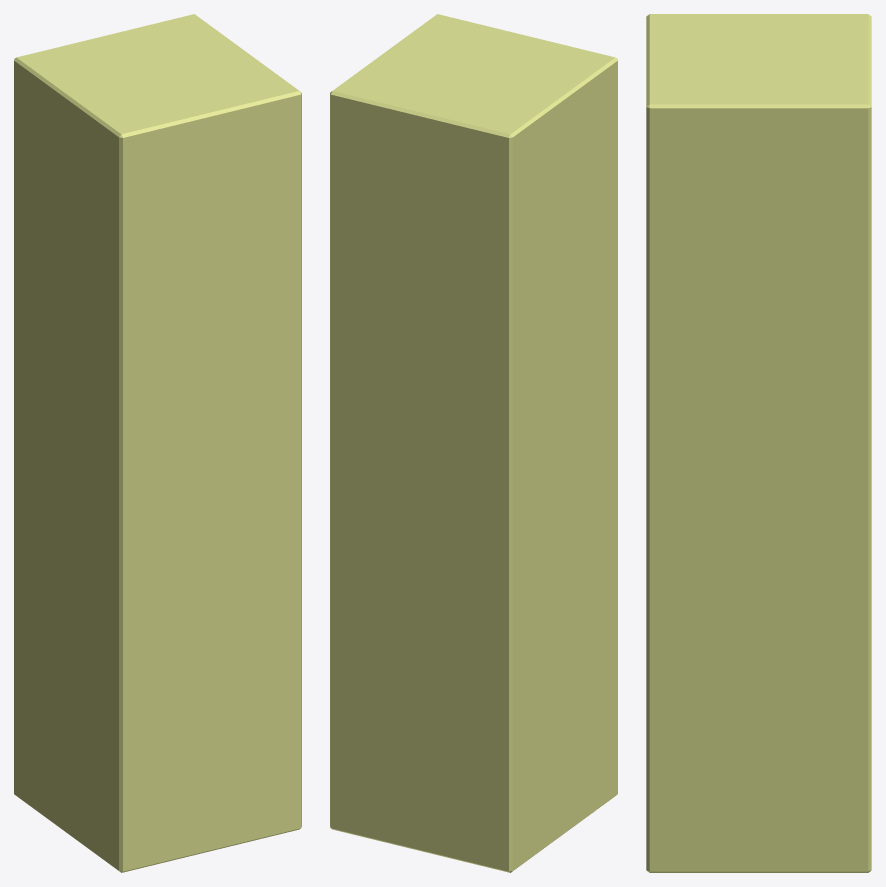
The model's file is bigBox.fbx.
The picture shows the model from 3 angles, left to right: view 1: azimuth 30°, elevation 25°; view 2: azimuth 150°, elevation 25°; view 3: azimuth 270°, elevation 25°; orthographic projection. The views are drawn at different scales.
Visible parts, largest first — view 1: bigBox; view 2: bigBox; view 3: bigBox.
Boxes of the visible parts, box(x1,y1,x2,y2) form: bigBox: box(14, 14, 301, 872); bigBox: box(330, 14, 617, 872); bigBox: box(646, 14, 871, 872).
Bounding box in the file's own units: 40.25 × 155 × 41.29.
